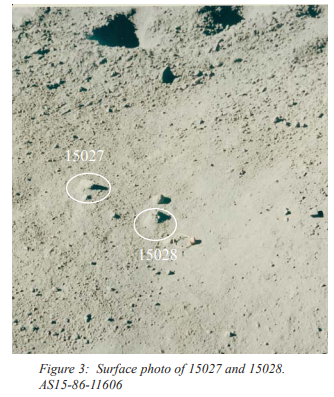Breccia: (72, 166, 192, 223)
